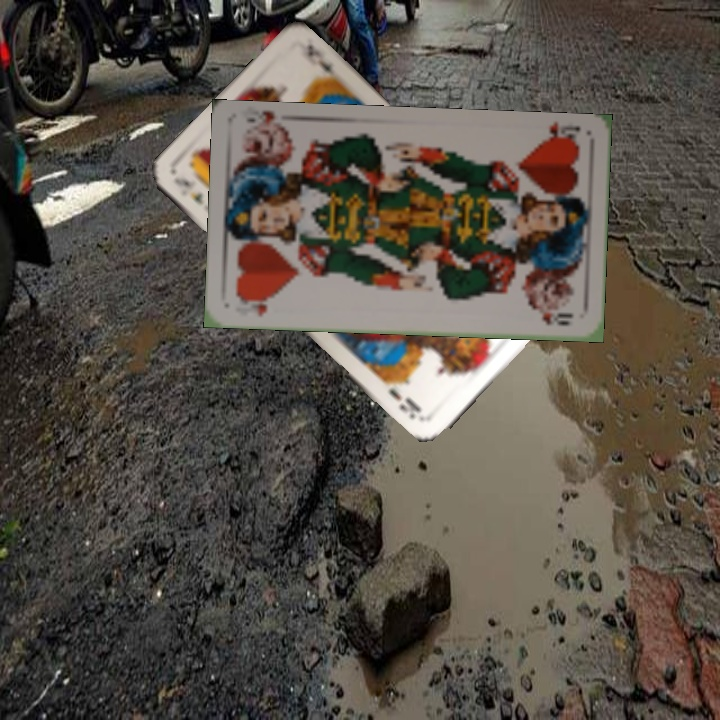EK: (170, 173, 207, 207)
HO: (533, 119, 583, 147), (231, 293, 278, 319)
